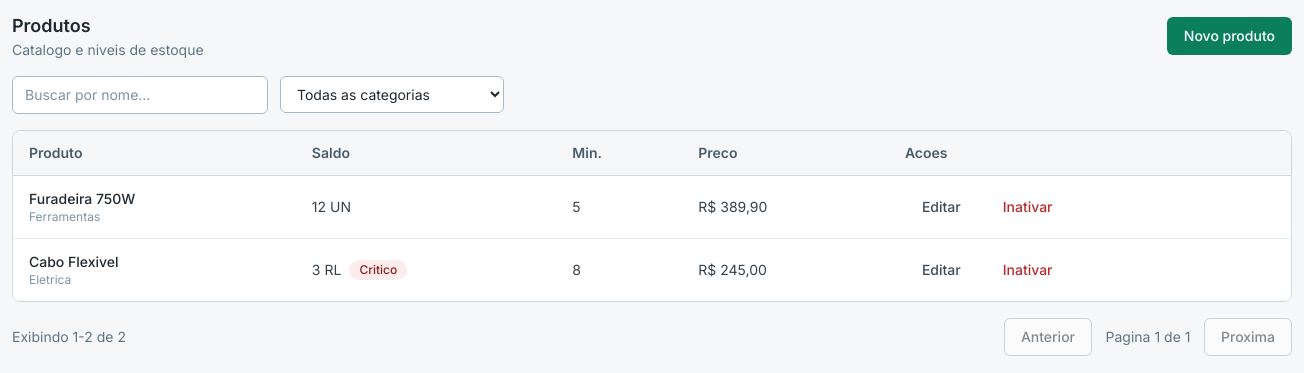
Test: Produtos › filtra a listagem pela busca por nome (RF-F03)
The width and height of the screenshot is (1304, 373).
Expected: the text "Furadeira 750W" is shown, [29, 189, 135, 209]
In the field named "Buscar produto": (140, 95) [12, 76, 268, 114], type "cabo"
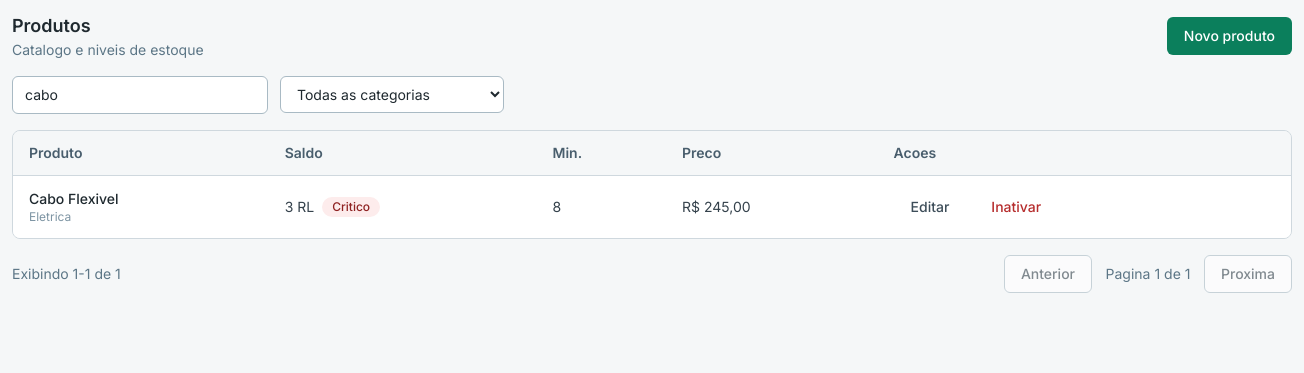
Expected: the text "Cabo Flexivel" is shown, [29, 189, 119, 209]
Expected: the text "Furadeira 750W" is gone
